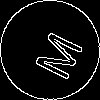M: (25, 25, 84, 83)
